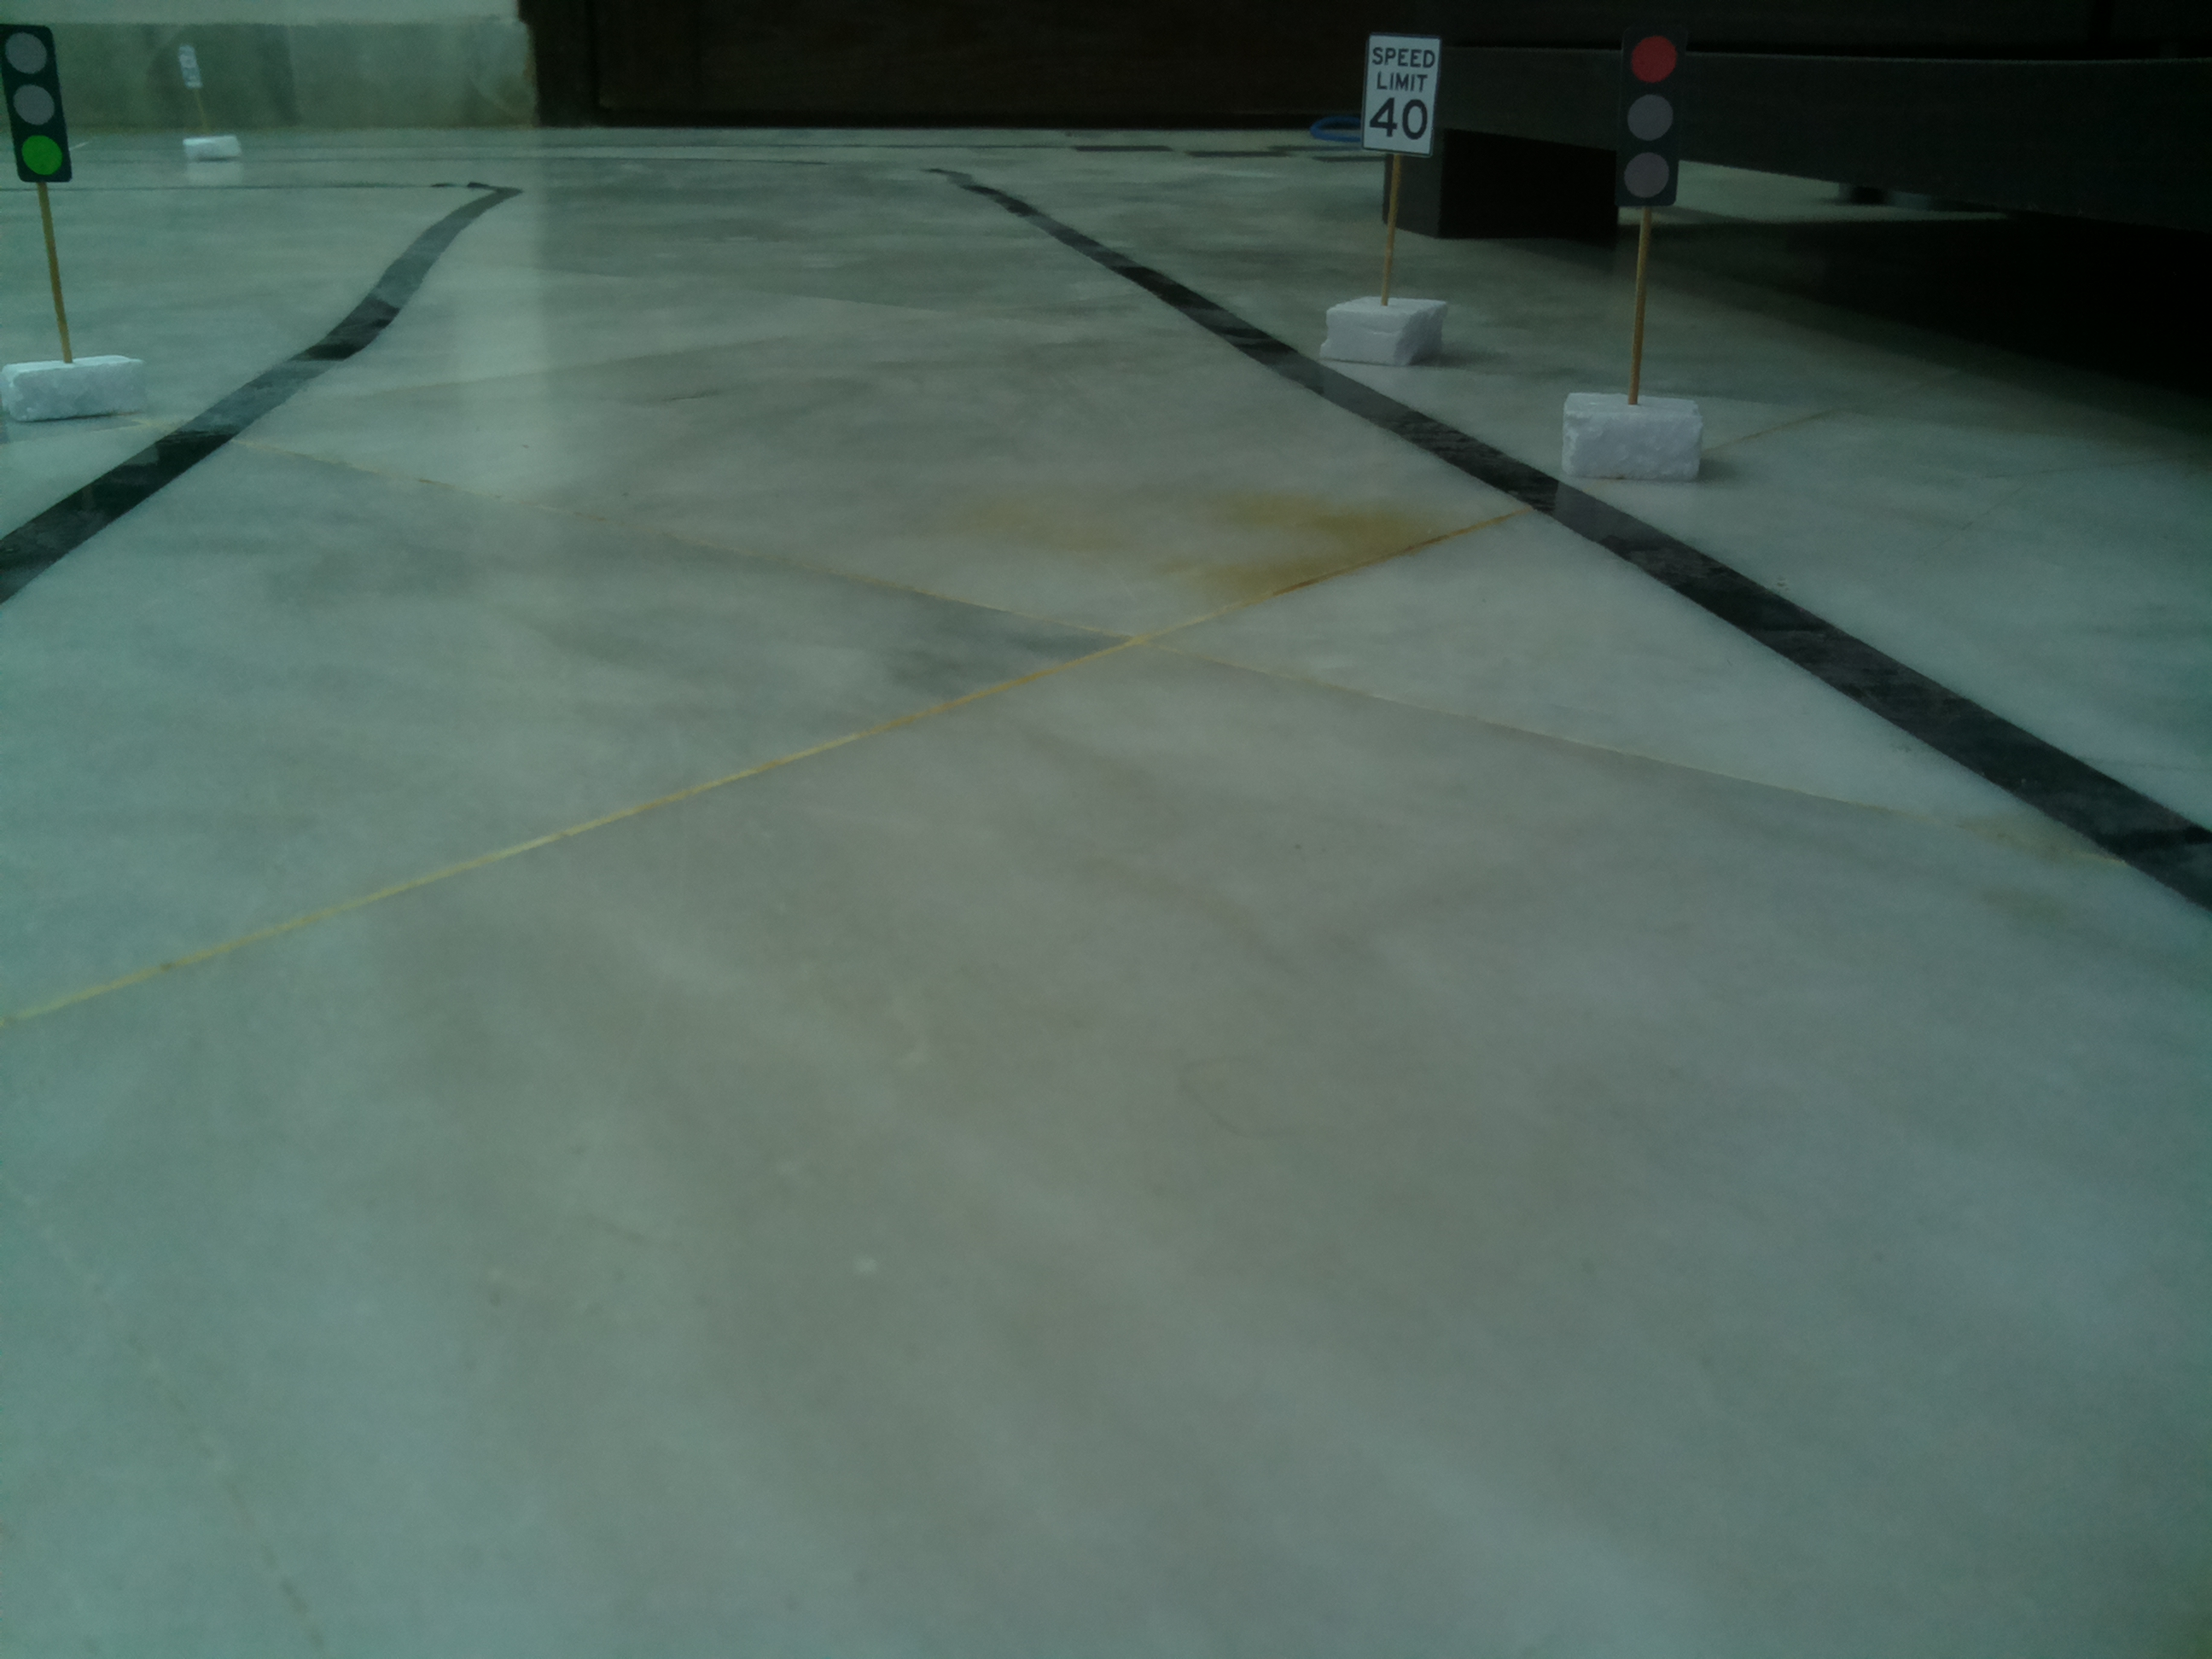Green traffic light: (0, 23, 84, 200)
Red traffic light: (1615, 19, 1703, 225)
Speed limit 40: (1348, 28, 1454, 157)
